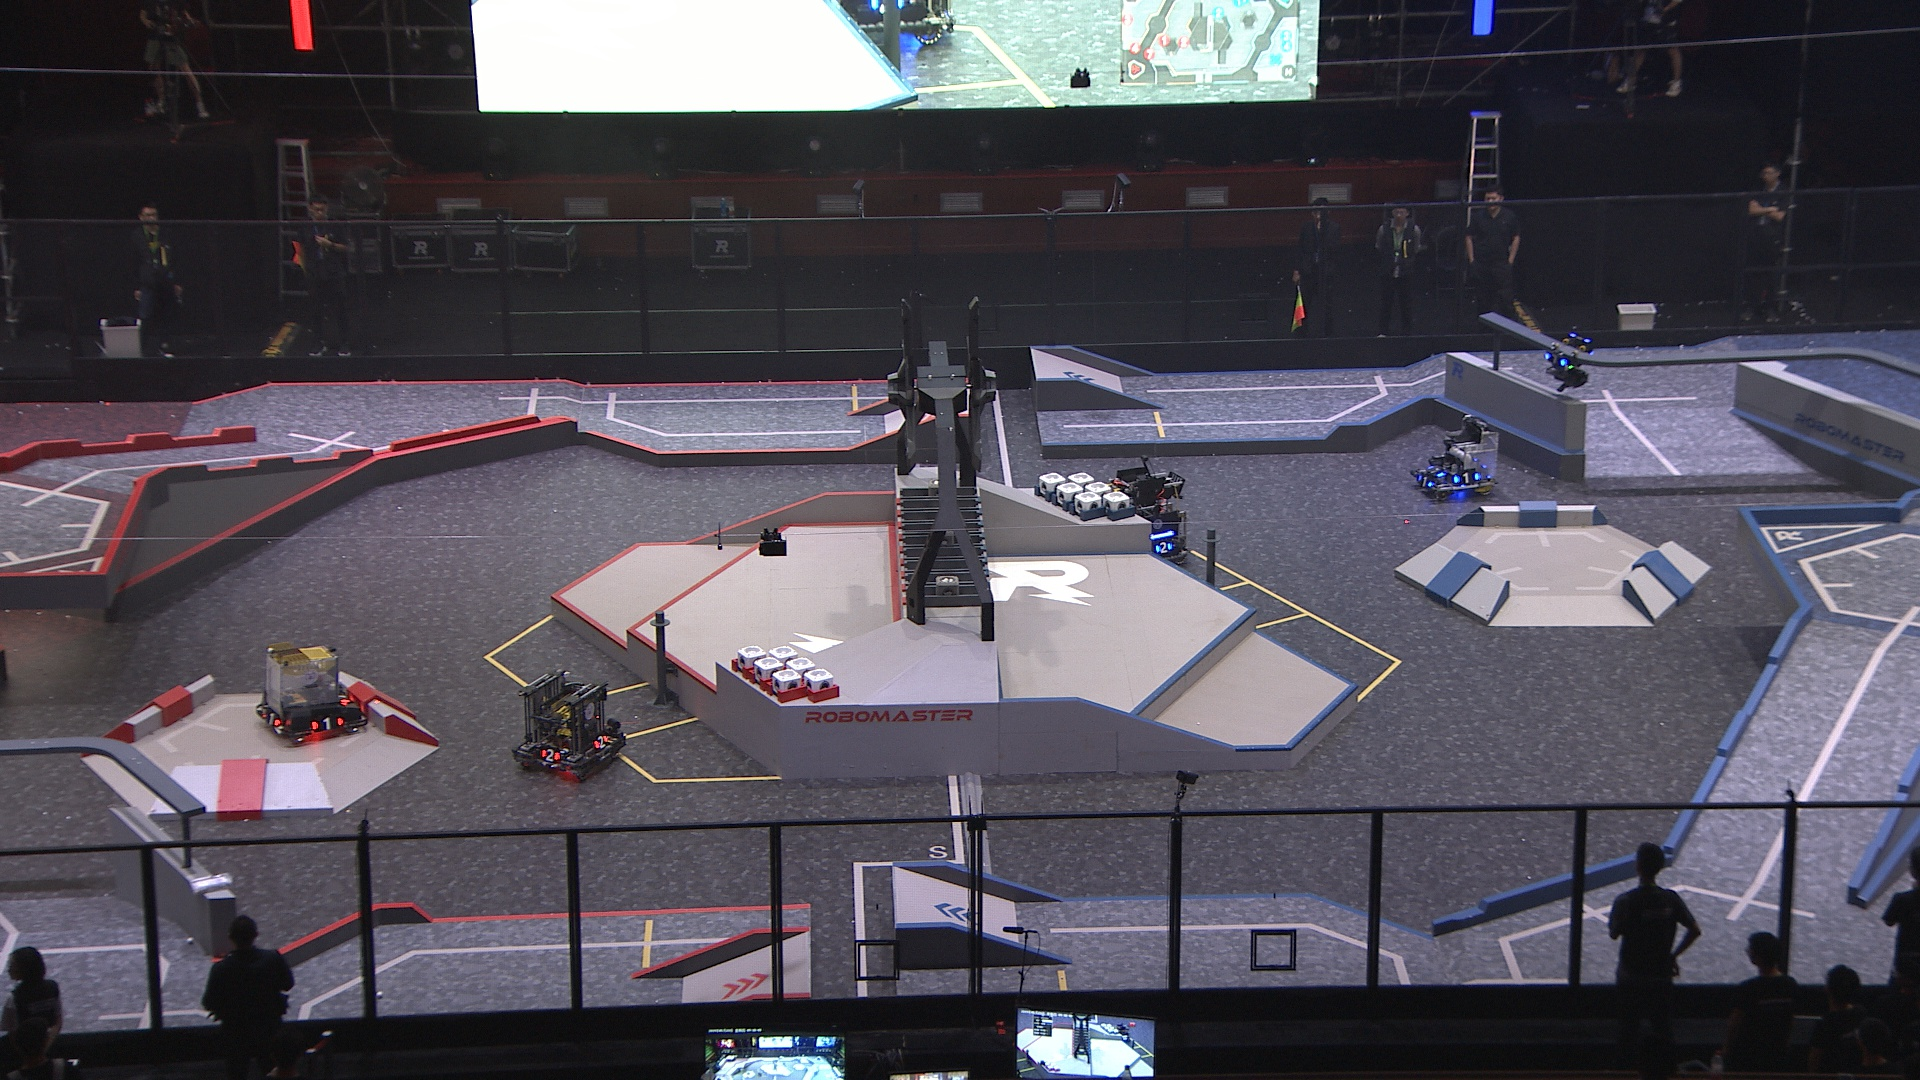armor: (310, 716, 344, 732), (1452, 471, 1481, 489), (1422, 462, 1447, 481), (1543, 349, 1567, 368), (537, 749, 562, 765), (591, 732, 611, 750), (261, 711, 280, 727), (1416, 475, 1433, 491), (1154, 542, 1174, 555), (338, 688, 349, 707)
car: (512, 666, 626, 785), (256, 641, 371, 746), (1102, 462, 1195, 575), (1410, 415, 1501, 498)
watcher: (1542, 328, 1594, 392)
